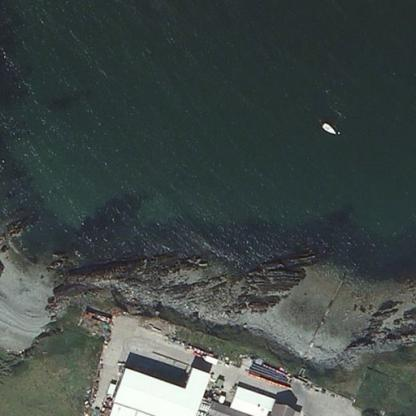ship: (317, 125, 339, 129)
